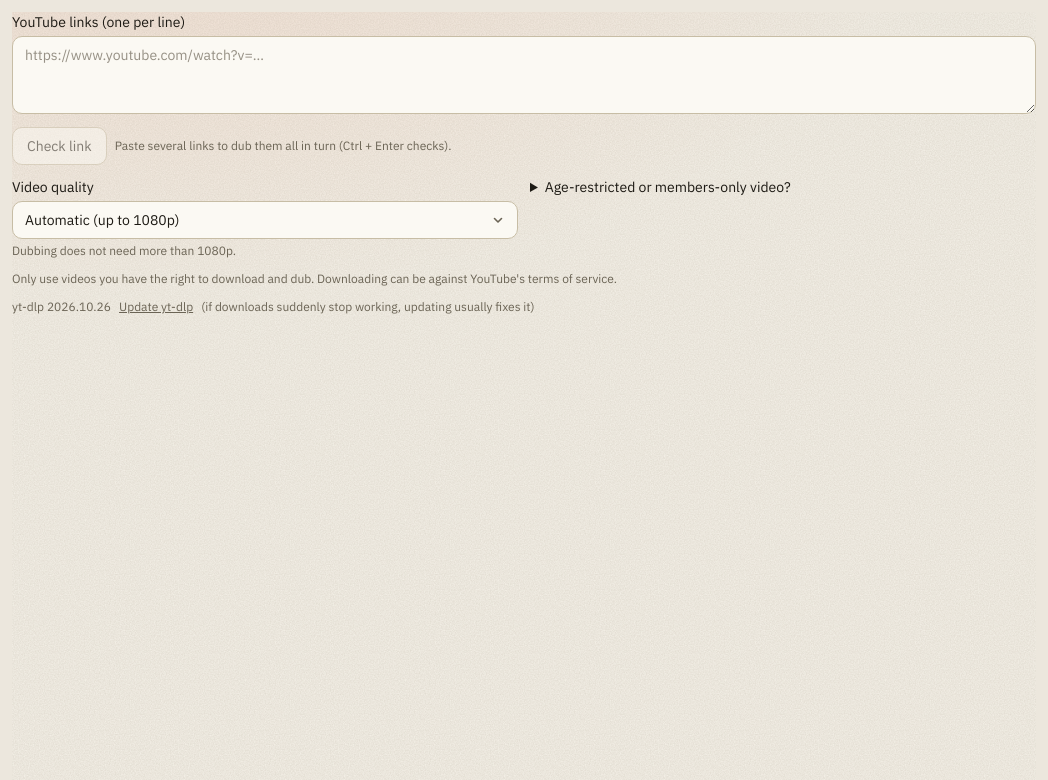
Scenario: YoutubeSource › checks a link, shows the video card and reports the choice
Check: the button "Check link" is disabled, box [12,127,107,165]
In the text box labelled "YouTube links (one per line)": (524, 75) [12,36,1036,114], type " https://youtu.be/abc "
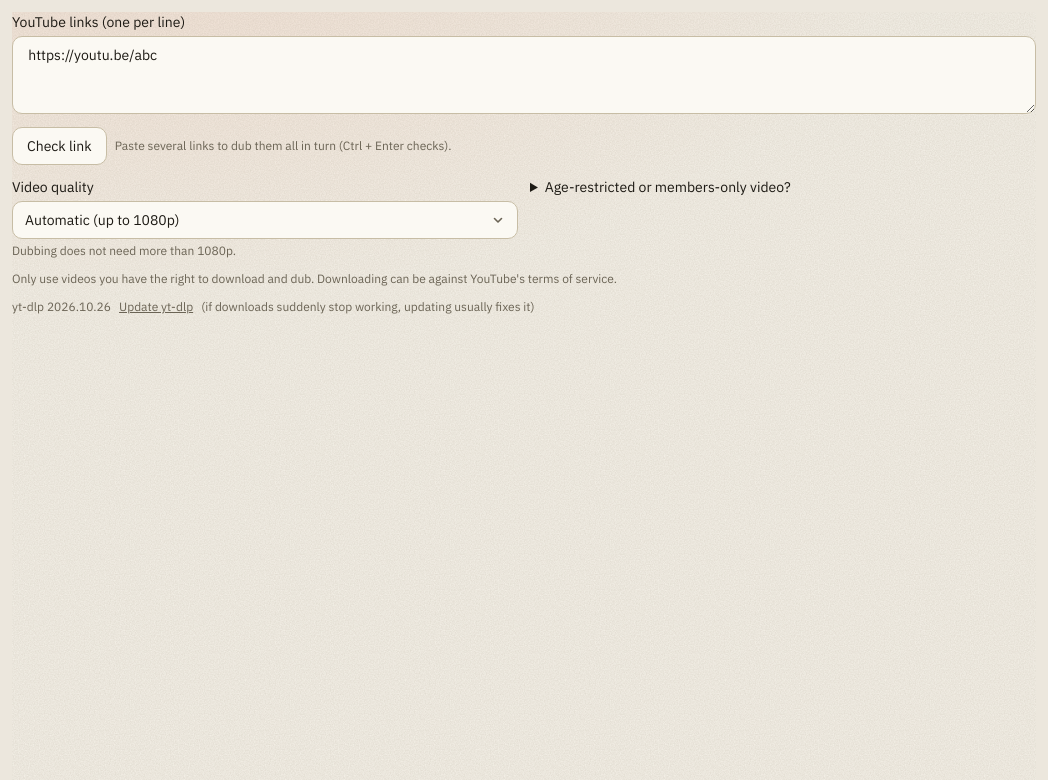
Click the button "Check link": (59, 146) [12,127,107,165]
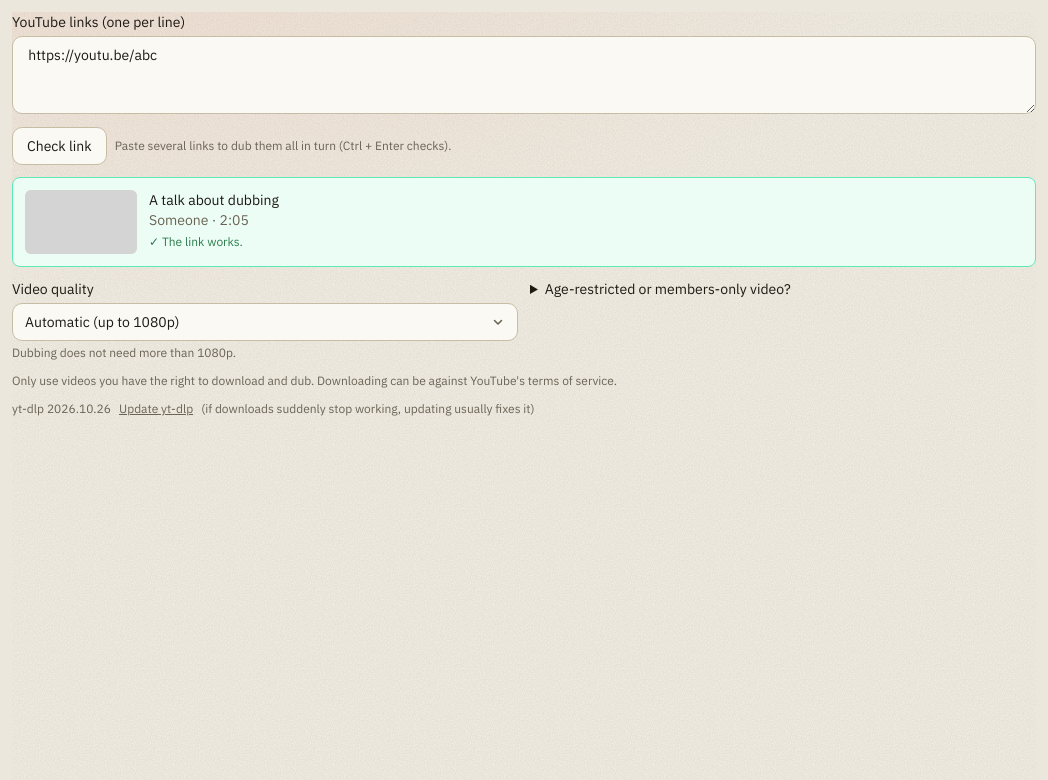
Check: the list item with test id "youtube-card" shows "A talk about dubbing", box [149,191,279,209]
Check: the list item with test id "youtube-card" shows "2:05", box [149,211,249,229]
